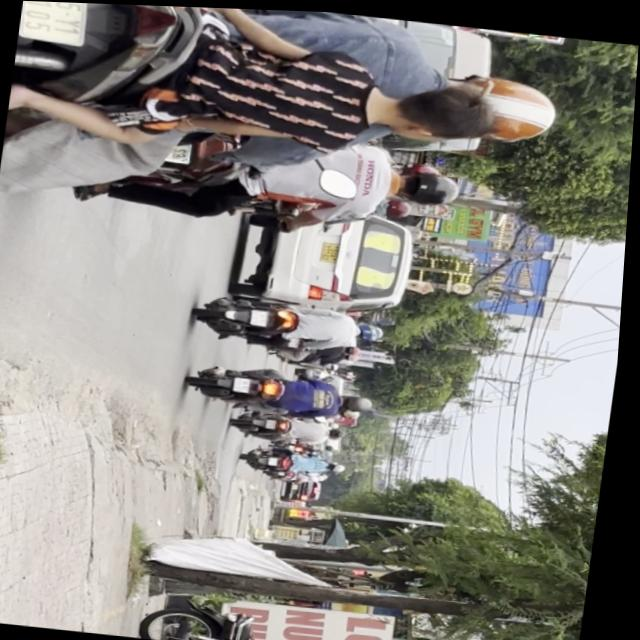helmet: (419, 63, 562, 150), (394, 160, 465, 206)
licenseplate: (0, 0, 570, 244), (12, 101, 472, 246)
motorcyclist: (367, 71, 492, 145)
nohelmet: (18, 1, 90, 45)
